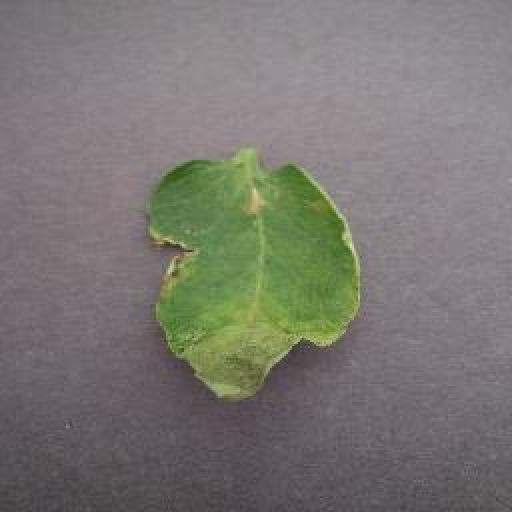disease_tomato: (144, 156, 360, 404)
